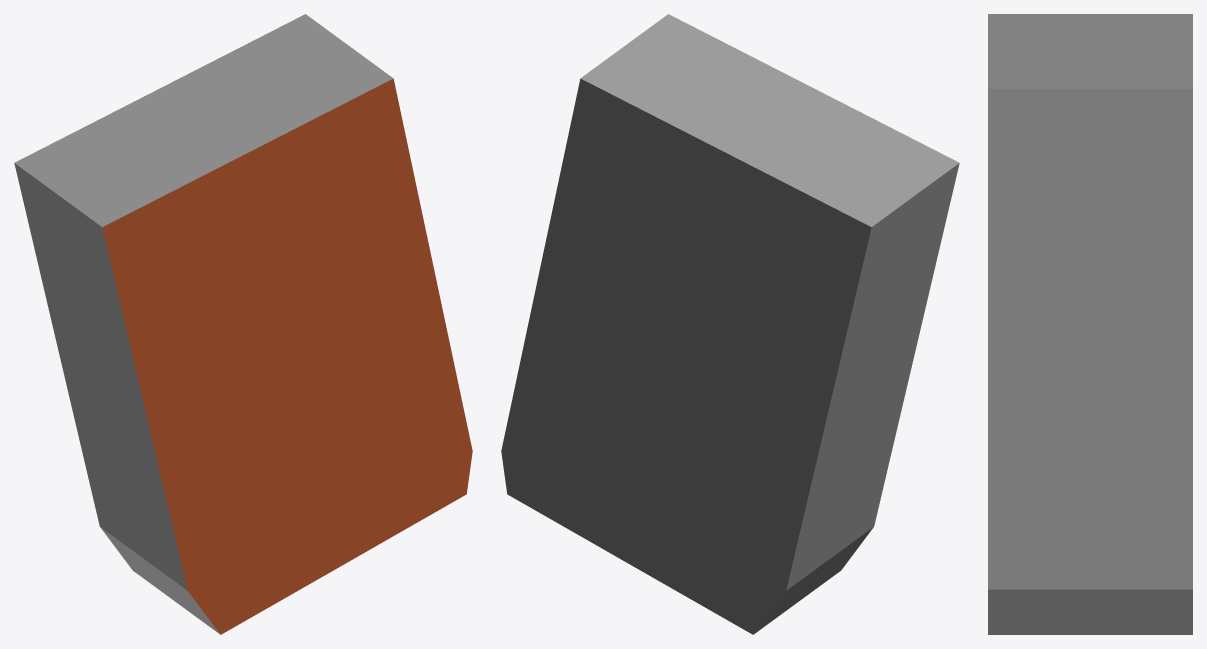
The model's file is construction_2132_assumed_A_Casa_h6m.obj.
The picture shows the model from 3 angles, left to right: view 1: azimuth 30°, elevation 25°; view 2: azimuth 150°, elevation 25°; view 3: azimuth 270°, elevation 25°; orthographic projection. The views are drawn at different scales.
Parts seen in each view (by area): view 1: construction_2132_assumed_A_Casa; view 2: construction_2132_assumed_A_Casa; view 3: construction_2132_assumed_A_Casa.
Part boxes in pixels (x1,y1,x2,y2): construction_2132_assumed_A_Casa: [14, 14, 472, 634]; construction_2132_assumed_A_Casa: [501, 14, 959, 634]; construction_2132_assumed_A_Casa: [988, 14, 1192, 634].
Size of the model in its own units: 14.57 by 19.34 by 6.
